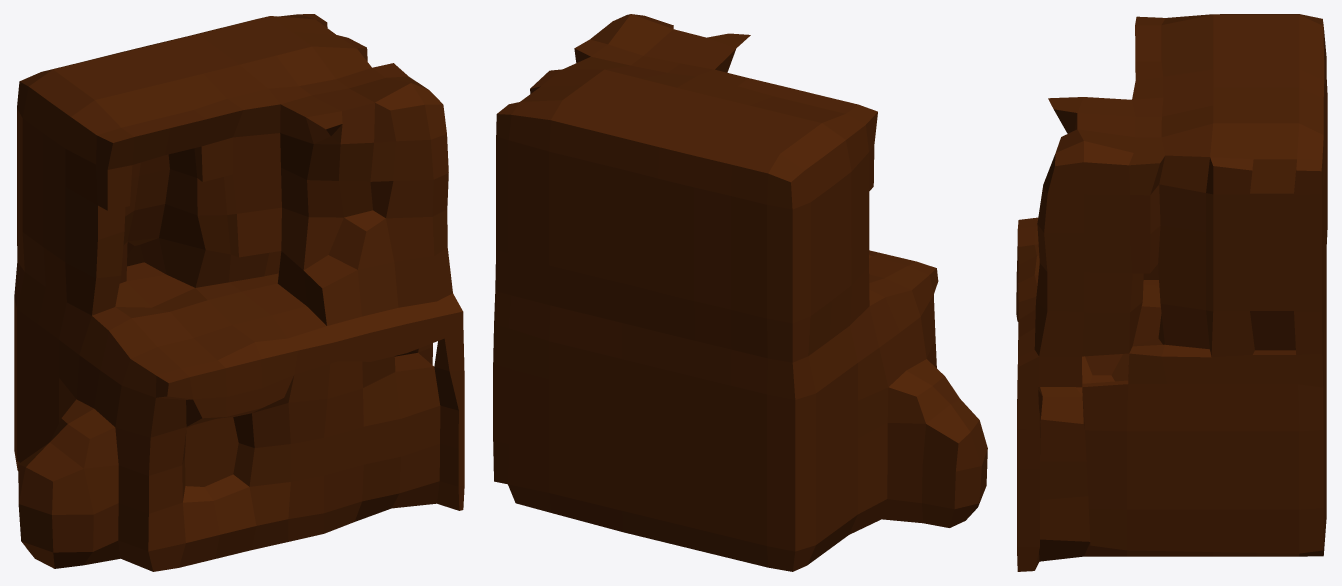
Rendered from House4LOD2.fbx.
3 views of the same model, side by side, from view 1: azimuth 30°, elevation 25°; view 2: azimuth 150°, elevation 25°; view 3: azimuth 270°, elevation 25° (orthographic). The views are drawn at different scales.
Visible parts, largest first — view 1: Plane.041; view 2: Plane.041; view 3: Plane.041.
Boxes of the visible parts, x1,y1,x2,y2 form: Plane.041: [14, 14, 464, 571]; Plane.041: [493, 14, 987, 571]; Plane.041: [1016, 14, 1327, 571].
Bounding box in the file's own units: 791 × 781 × 522.
